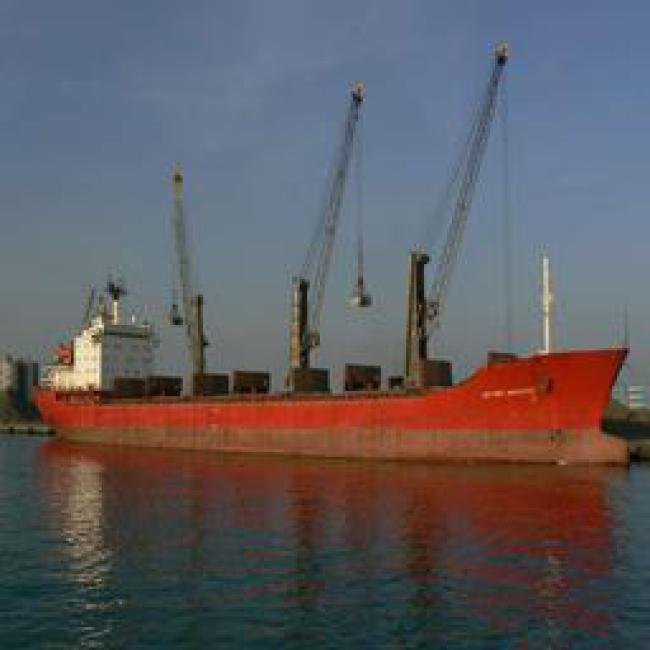Ship: (30, 306, 623, 473)
